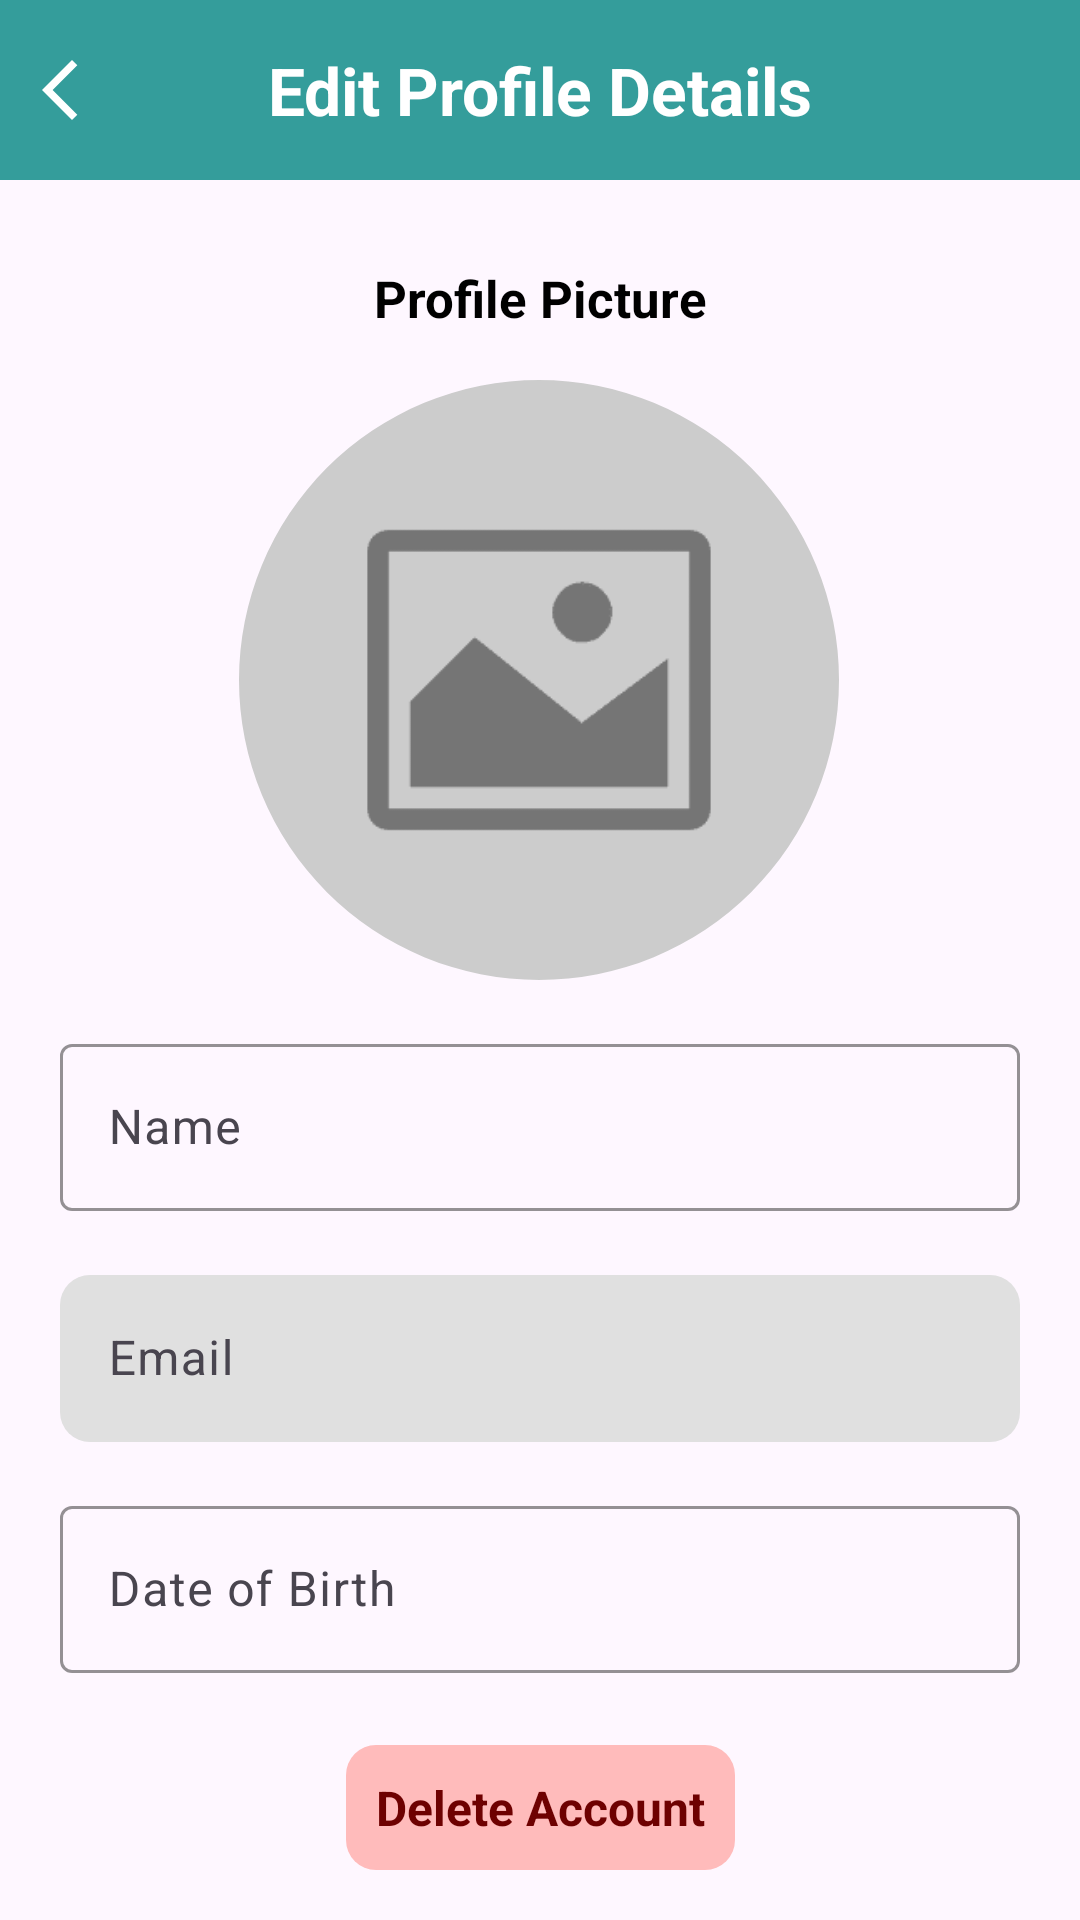

Icons on this 1080w x 1920h Android screen, each with the point to tap as [x,y]:
back: [59,90]
